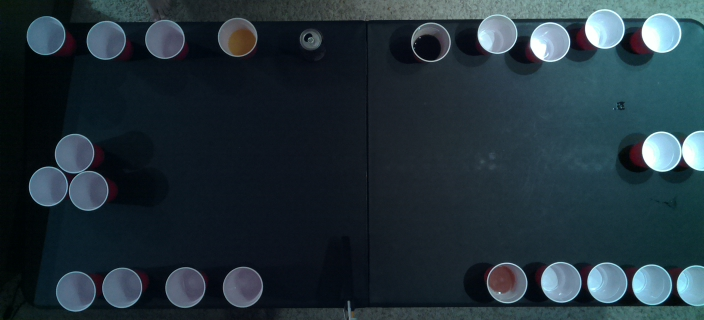active bp cup: (638, 130, 681, 173), (54, 132, 95, 174), (27, 166, 68, 207), (68, 170, 109, 211), (681, 129, 703, 172)
can: (296, 26, 322, 51)
drink cup: (485, 261, 529, 304), (409, 21, 452, 64), (216, 16, 258, 57)
inactive bp cup: (524, 21, 572, 63), (630, 261, 674, 305), (99, 265, 143, 309), (163, 265, 207, 308), (24, 14, 67, 57), (584, 263, 628, 305), (539, 260, 581, 304), (474, 13, 517, 55), (54, 270, 97, 312), (221, 266, 264, 308), (582, 8, 626, 49), (142, 19, 184, 61), (84, 21, 128, 61), (640, 12, 682, 53), (676, 262, 703, 307)
